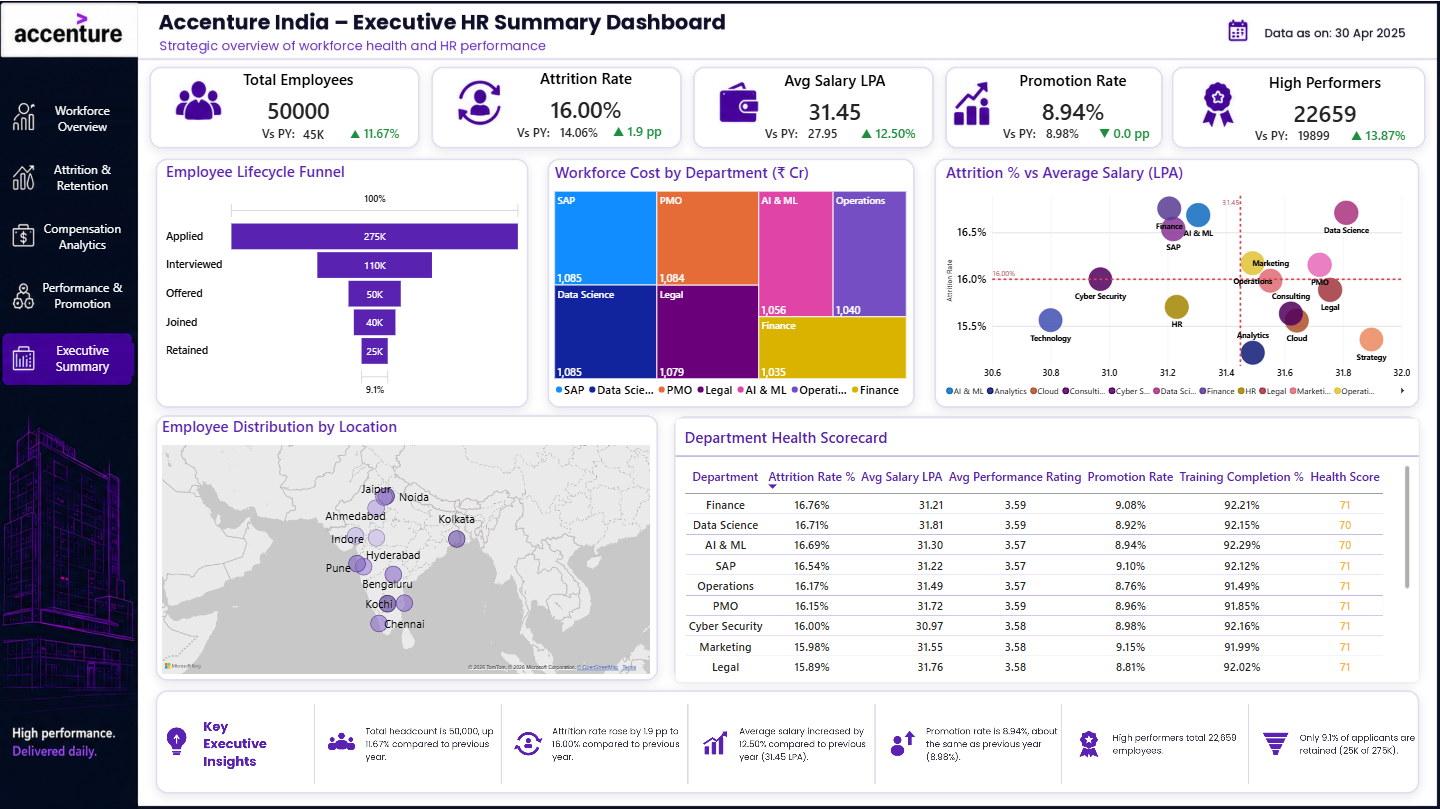

Layout of this report page (visuals, bound fields, positions):
{"tool":"powerbi","page":{"name":"Executive Summary","canvas":[2560,1440],"ordinal":4},"visuals":[{"type":"group","id":"g1","title":"2nd KPI","box":[394.9,114.3,330.5,141.3],"z":0},{"type":"group","id":"g2","title":"Side-KPI","box":[1360.2,216.1,286.7,35.8],"z":0,"group":"g8"},{"type":"group","id":"g3","title":"Side-KPI","box":[1782,216.3,286.7,35.8],"z":0,"group":"g9"},{"type":"textbox","box":[919.9,217.7,78.5,30],"z":0,"group":"g6"},{"type":"textbox","box":[466.9,220.3,71,30],"z":0,"group":"g7"},{"type":"textbox","box":[1360.2,220.4,78.3,28.7],"z":0,"group":"g2"},{"type":"group","id":"g4","title":"Side-KPI","box":[2229,220.4,286.7,35.8],"z":0,"group":"g10"},{"type":"textbox","box":[1782,220.6,78.3,28.7],"z":0,"group":"g3"},{"type":"textbox","box":[2229,224.7,78.3,28.7],"z":0,"group":"g4"},{"type":"group","id":"g5","title":"2nd KPI","box":[866.7,112.2,351.3,137.2],"z":1000},{"type":"cardVisual","fields":{"Data":["Measures_1.Avg Salary LPA"]},"box":[1317.8,118.3,333.7,107.2],"z":1000,"group":"g8"},{"type":"cardVisual","fields":{"Data":["Measures_4.Promotion Rate"]},"box":[1739.6,118.5,333.7,107.2],"z":1000,"group":"g9"},{"type":"cardVisual","fields":{"Data":["Measures_4.High Performers"]},"box":[2186.6,122.6,333.7,107.2],"z":1000,"group":"g10"},{"type":"group","id":"g6","title":"Side-KPI","box":[919.9,213.2,287.5,37.5],"z":1000,"group":"g5"},{"type":"cardVisual","fields":{"Data":["Measures_1.Attrition Rate PY"]},"box":[981.1,213.2,116.1,37.5],"z":1000,"group":"g6"},{"type":"cardVisual","fields":{"Data":["Measures_3.Avg Salary LPA PY"]},"box":[1421.2,216.1,115.8,35.8],"z":1000,"group":"g2"},{"type":"group","id":"g7","title":"Side-KPI","box":[466.9,216.3,260,38],"z":1000,"group":"g1"},{"type":"cardVisual","fields":{"Data":["Measures_1.Total Employees PY"]},"box":[523,216.3,72.9,38],"z":1000,"group":"g7"},{"type":"cardVisual","fields":{"Data":["Measures_4.Promotion Rate PY"]},"box":[1843,216.3,115.8,35.8],"z":1000,"group":"g3"},{"type":"cardVisual","fields":{"Data":["Measures_4.High Performers PY"]},"box":[2290,220.4,115.8,35.8],"z":1000,"group":"g4"},{"type":"cardVisual","fields":{"Data":["Measures_1.Attrition Rate"]},"box":[866.7,112.2,351.3,112.2],"z":2000,"group":"g5"},{"type":"cardVisual","fields":{"Data":["Measures_1.Total Employees"]},"box":[394.9,114.3,274,112],"z":2000,"group":"g1"},{"type":"group","id":"g8","title":"2nd KPI","box":[1317.8,118.3,334.6,133],"z":2000},{"type":"cardVisual","title":"%","fields":{"Data":["Measures_1.Attrition Change Label"]},"box":[1074.7,213.7,132.7,36],"z":2000,"group":"g6"},{"type":"cardVisual","title":"%","fields":{"Data":["Measures_1.Employees Growth Label"]},"box":[606.9,216.3,120,36],"z":2000,"group":"g7"},{"type":"cardVisual","title":"%","fields":{"Data":["Measures_3.Avg Salary Growth Label"]},"box":[1514.6,216.5,132.3,34.4],"z":2000,"group":"g2"},{"type":"cardVisual","title":"%","fields":{"Data":["Measures_4.Promotion Change Label"]},"box":[1936.4,216.7,132.3,34.4],"z":2000,"group":"g3"},{"type":"cardVisual","title":"%","fields":{"Data":["Measures_4.High Performers Growth Label"]},"box":[2383.4,220.8,132.3,34.4],"z":2000,"group":"g4"},{"type":"group","id":"g9","title":"2nd KPI","box":[1739.6,118.5,334.6,133],"z":3000},{"type":"group","id":"g10","title":"2nd KPI","box":[2186.6,122.6,334.6,133],"z":4000},{"type":"funnel","title":"Employee Lifecycle Funnel","fields":{"Category":["Fact Recruitment.Stage"],"Y":["Measures_4.Candidates"]},"box":[282.7,270.2,661,449],"z":5000},{"type":"treemap","title":"Workforce Cost by Department (₹ Cr)","fields":{"Group":["Dim Department.Department Name"],"Values":["Measures_3.Total Payroll"]},"box":[978,270.9,649.6,450.6],"z":6000},{"type":"scatterChart","title":"Attrition % vs Average Salary (LPA)","fields":{"Category":["Dim Department.Department Name"],"Series":["Dim Department.Department Name"],"Size":["Measures_1.Total Employees"],"X":["Measures_1.Avg Salary LPA"],"Y":["Measures_1.Attrition Rate"]},"box":[1665.9,270.9,855.7,450.6],"z":7000},{"type":"map","title":"Employee Distribution by Location","fields":{"Category":["Dim Location.City"],"Size":["Measures_1.Total Employees"]},"box":[274.4,721.3,897.9,488.5],"z":8000},{"type":"tableEx","title":"Department Health Scorecard","fields":{"Values":["Dim Department.Department Name","Measures_1.Attrition Rate","Measures_1.Avg Salary LPA","Measures_4.Avg Performance Rating","Measures_4.Promotion Rate","Measures_4.Training Completion %","Measures_4.Health Score"]},"box":[1201.4,740,1319.9,469.7],"z":9000},{"type":"pageNavigator","box":[54,164.2,193.3,521.7],"z":9001},{"type":"image","box":[274.4,1224.3,2286.4,187.1],"z":9002}]}

Visuals, with their boxes on the page's 2560x1440 design canvas (x1, y1, x2, y2). These are canvas units, not pixel positions in the 1440x809 screenshot, which may show the page scaled, cropped or inside an application window:
"2nd KPI" group: [395,114,725,256]
"Side-KPI" group: [1360,216,1647,252]
"Side-KPI" group: [1782,216,2069,252]
textbox: [920,218,998,248]
textbox: [467,220,538,250]
textbox: [1360,220,1438,249]
"Side-KPI" group: [2229,220,2516,256]
textbox: [1782,221,1860,249]
textbox: [2229,225,2307,253]
"2nd KPI" group: [867,112,1218,249]
cardVisual - Measures_1.Avg Salary LPA: [1318,118,1652,226]
cardVisual - Measures_4.Promotion Rate: [1740,118,2073,226]
cardVisual - Measures_4.High Performers: [2187,123,2520,230]
"Side-KPI" group: [920,213,1207,251]
cardVisual - Measures_1.Attrition Rate PY: [981,213,1097,251]
cardVisual - Measures_3.Avg Salary LPA PY: [1421,216,1537,252]
"Side-KPI" group: [467,216,727,254]
cardVisual - Measures_1.Total Employees PY: [523,216,596,254]
cardVisual - Measures_4.Promotion Rate PY: [1843,216,1959,252]
cardVisual - Measures_4.High Performers PY: [2290,220,2406,256]
cardVisual - Measures_1.Attrition Rate: [867,112,1218,224]
cardVisual - Measures_1.Total Employees: [395,114,669,226]
"2nd KPI" group: [1318,118,1652,251]
"%" cardVisual: [1075,214,1207,250]
"%" cardVisual: [607,216,727,252]
"%" cardVisual: [1515,216,1647,251]
"%" cardVisual: [1936,217,2069,251]
"%" cardVisual: [2383,221,2516,255]
"2nd KPI" group: [1740,118,2074,252]
"2nd KPI" group: [2187,123,2521,256]
"Employee Lifecycle Funnel" funnel: [283,270,944,719]
"Workforce Cost by Department (₹ Cr)" treemap: [978,271,1628,722]
"Attrition % vs Average Salary (LPA)" scatterChart: [1666,271,2522,722]
"Employee Distribution by Location" map: [274,721,1172,1210]
"Department Health Scorecard" tableEx: [1201,740,2521,1210]
pageNavigator: [54,164,247,686]
image: [274,1224,2561,1411]
